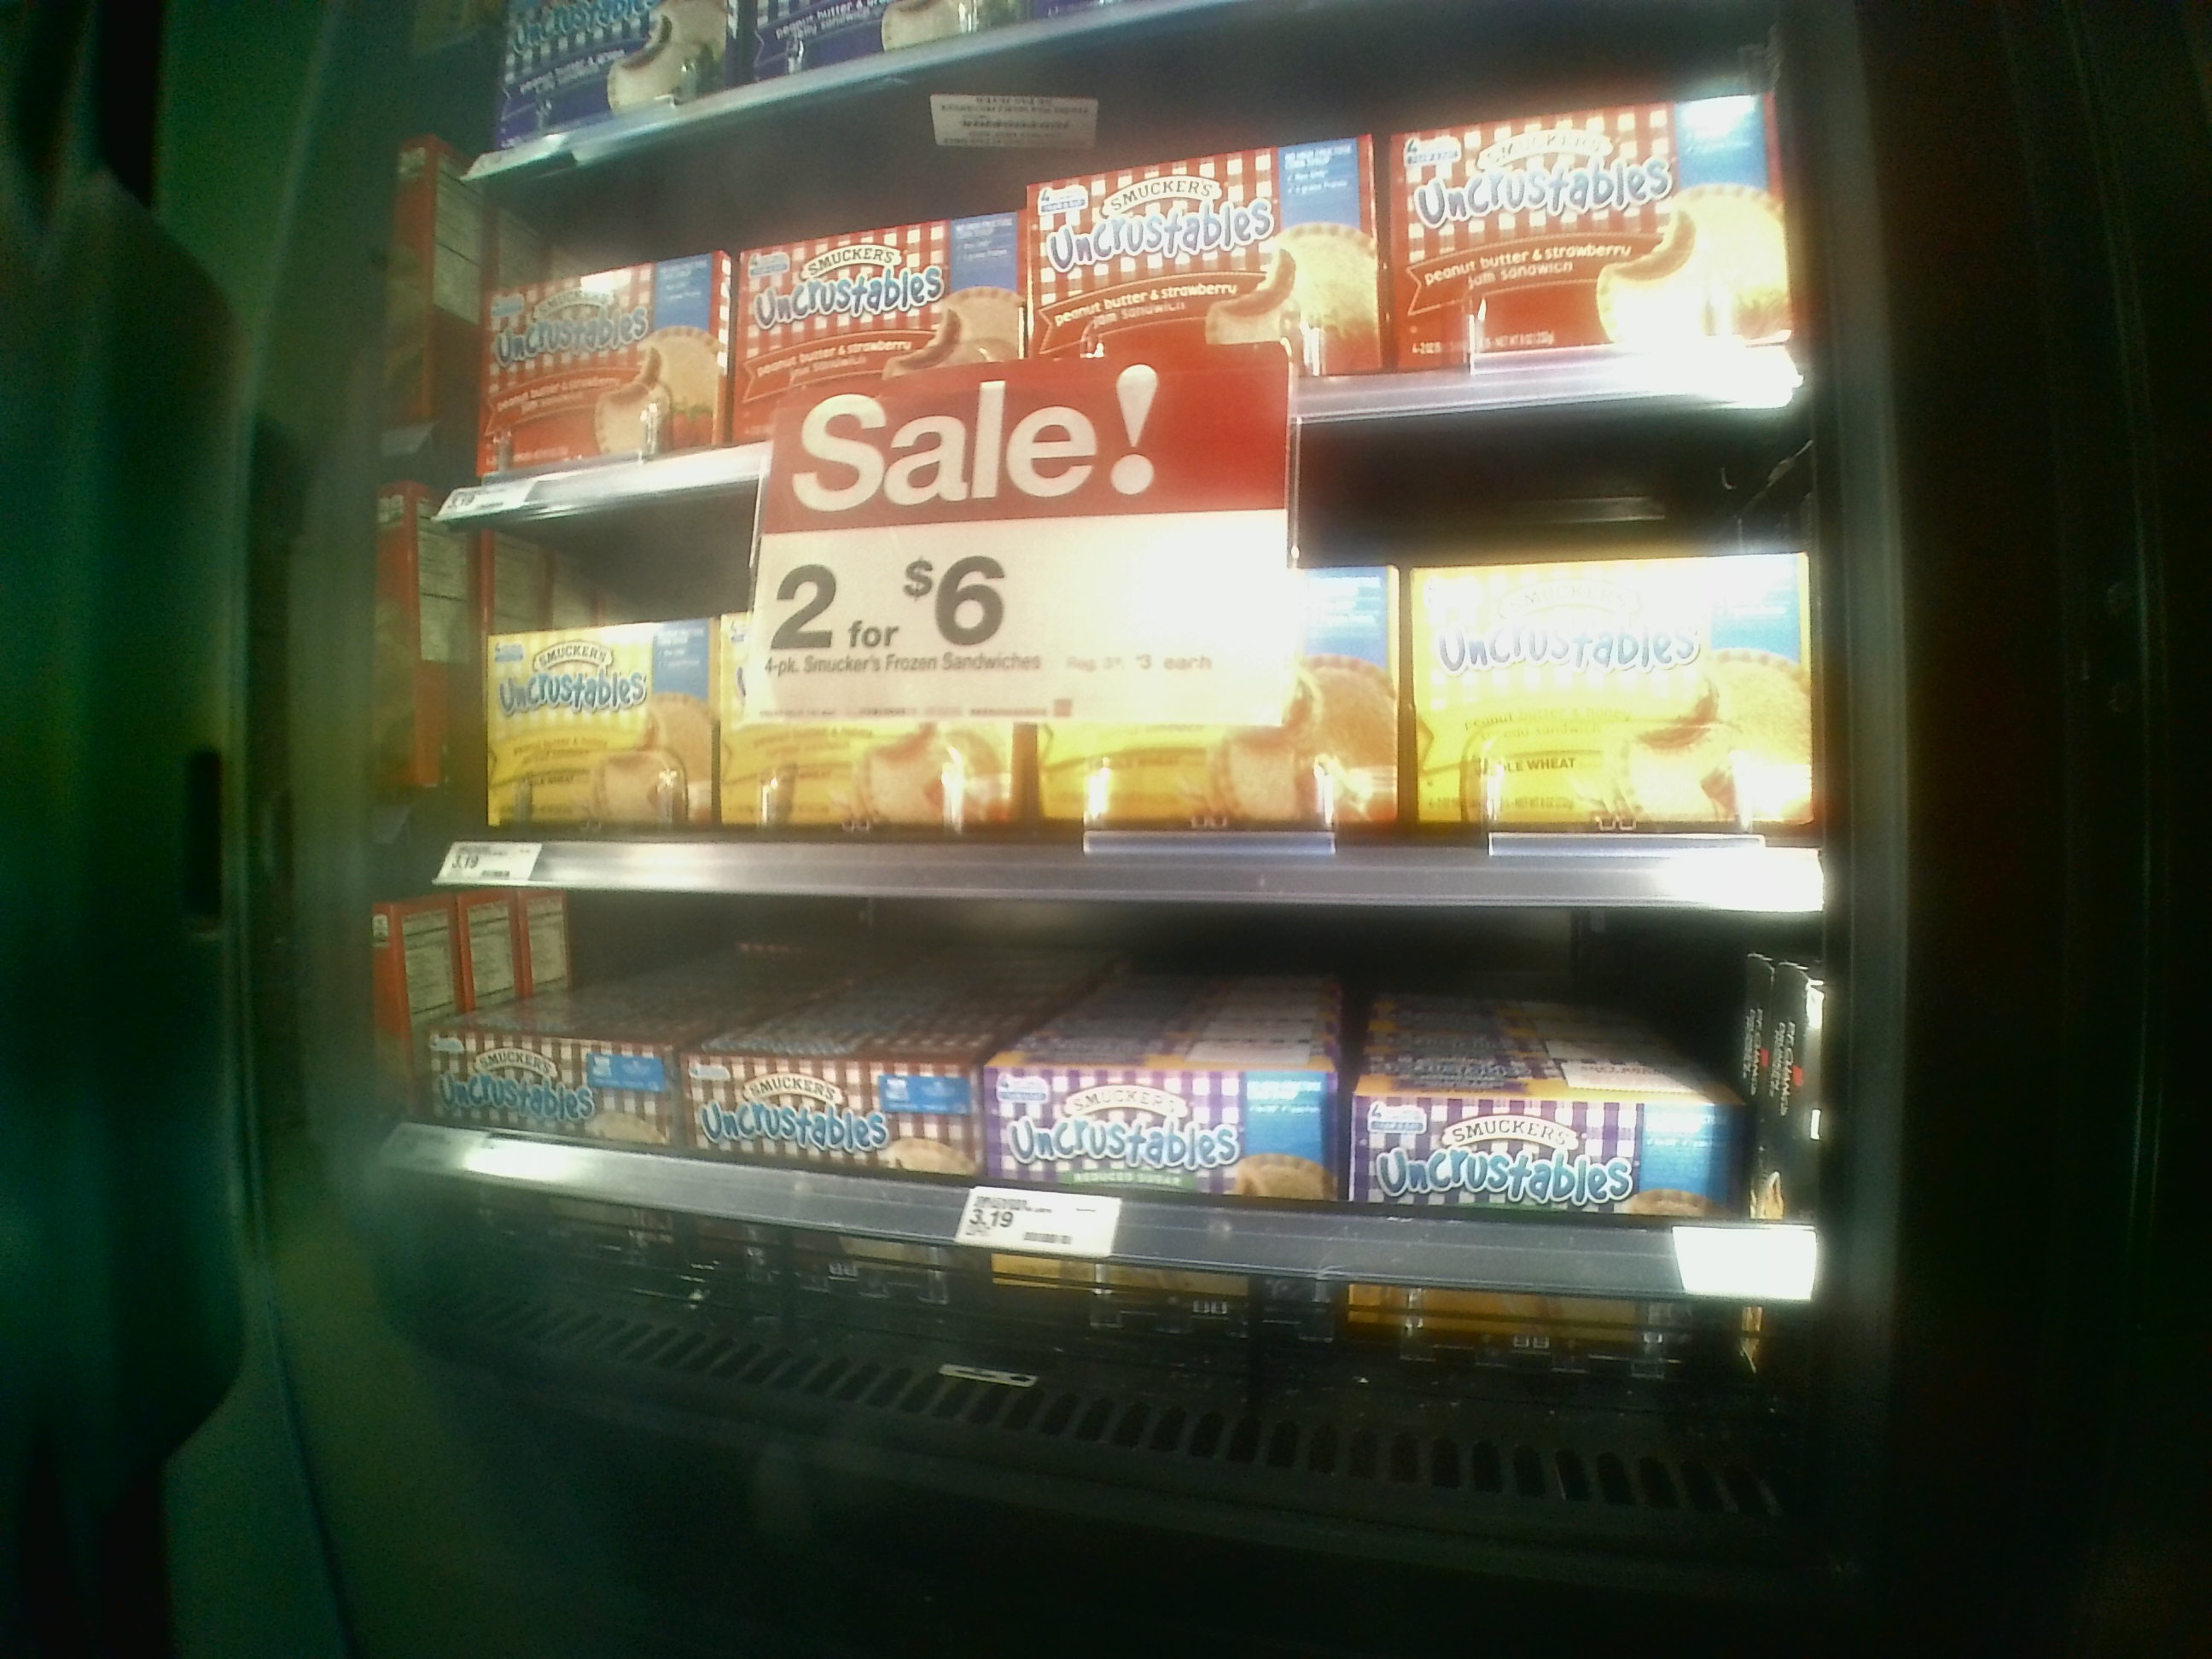shelf: (421, 899, 1855, 1406), (427, 493, 1801, 929), (439, 159, 1810, 416)
